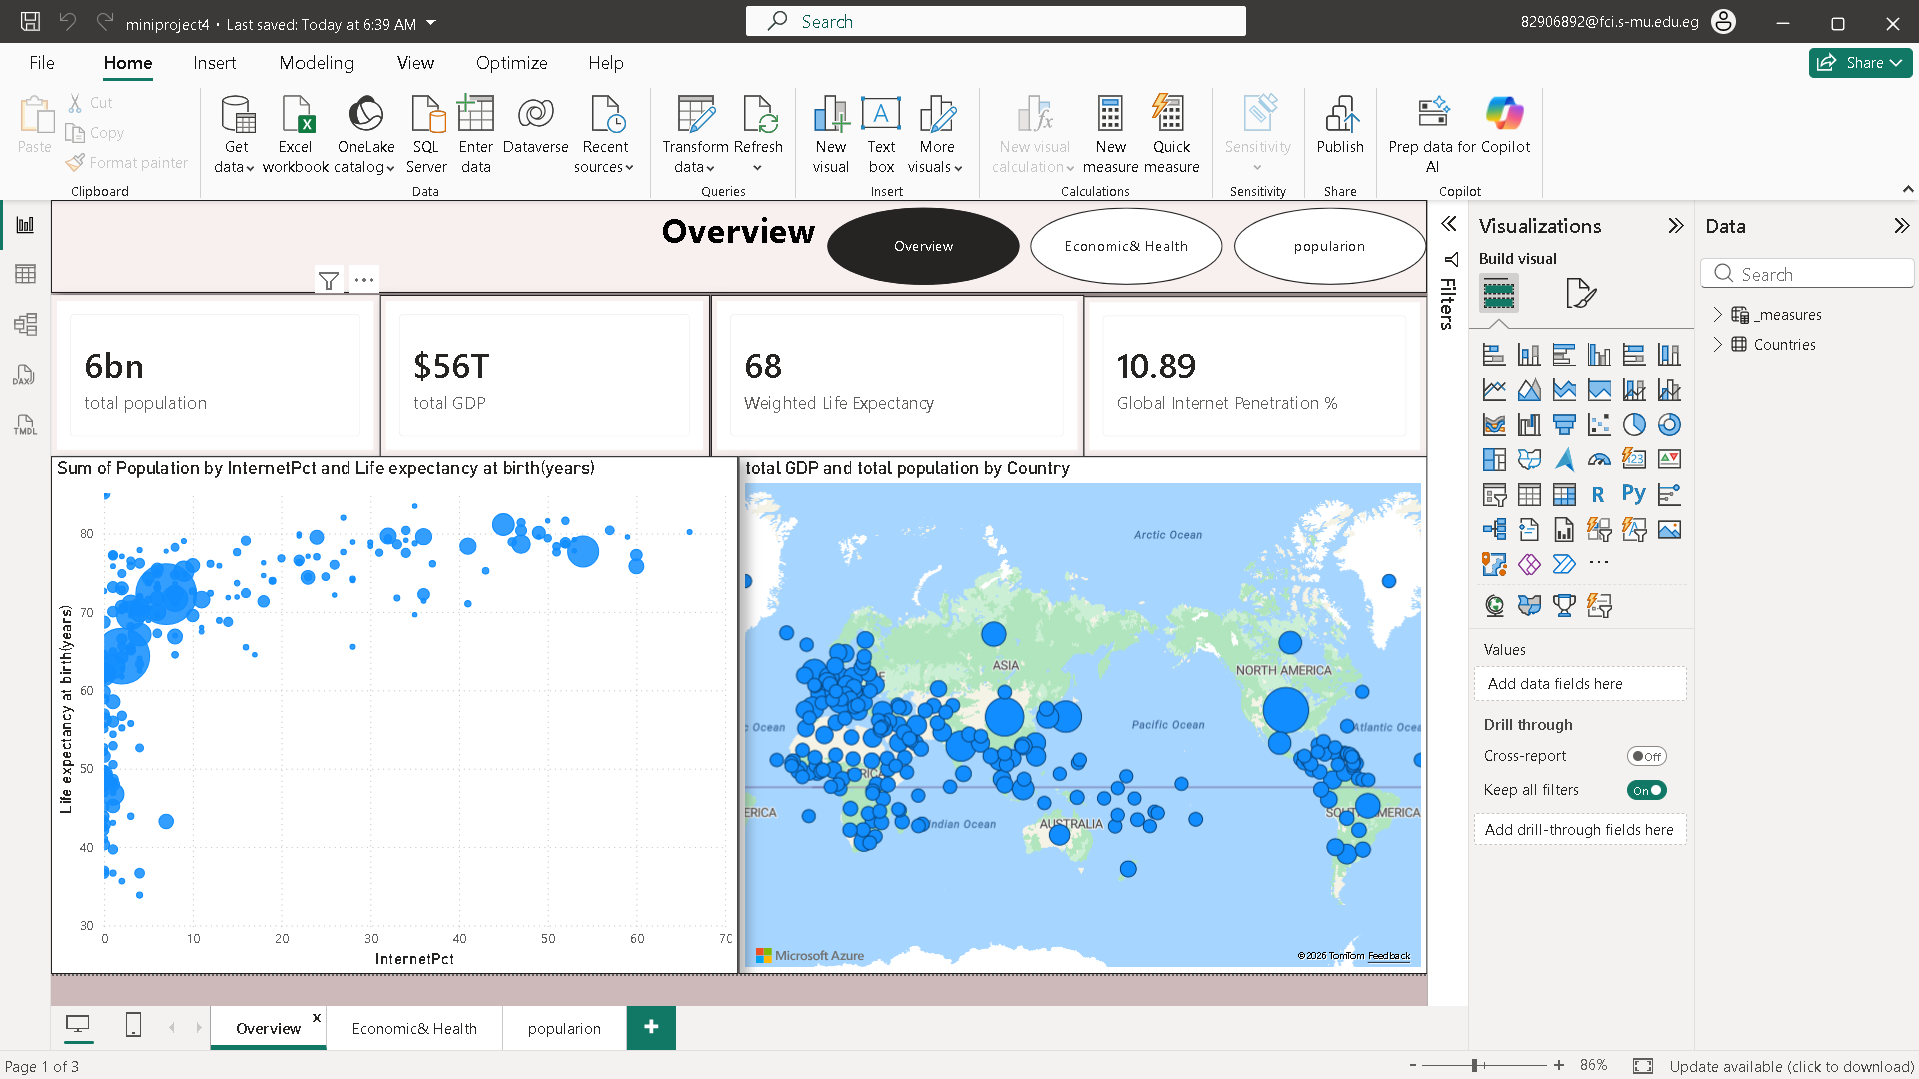

What the dashboard file says about the page in this screenshot:
{"tool":"powerbi","page":{"name":"Overview","canvas":[1280,720],"ordinal":0},"visuals":[{"type":"textbox","box":[0,0,1280.3,86.4],"z":0},{"type":"cardVisual","fields":{"Data":["_measures.total population"]},"box":[0,87.8,306,150.9],"z":1000},{"type":"cardVisual","fields":{"Data":["_measures.total GDP"]},"box":[306,87.8,307.4,150.9],"z":2000},{"type":"cardVisual","fields":{"Data":["_measures.Weighted Life Expectancy"]},"box":[613.4,87.8,347.2,150.9],"z":3000},{"type":"cardVisual","fields":{"Data":["_measures.Global Internet Penetration %"]},"box":[960.6,89.2,319.7,149.6],"z":4000},{"type":"azureMap","fields":{"Category":["Countries.Country"],"Size":["_measures.total GDP"]},"box":[639.5,238.8,640.8,481.6],"z":5000},{"type":"scatterChart","fields":{"X":["Countries.InternetPct"],"Y":["Countries.Life expectancy at birth(years)"],"Size":["Sum(Countries.Population)"]},"box":[0,238.8,639.5,481.6],"z":6000},{"type":"pageNavigator","box":[722.1,7,558.1,72.1],"z":6001}]}

Visuals, with their boxes on the page's 1280x720 design canvas (x1, y1, x2, y2). These are canvas units, not pixel positions in the 1919x1079 screenshot, which may show the page scaled, cropped or inside an application window:
textbox: box(0, 0, 1280, 86)
cardVisual - _measures.total population: box(0, 88, 306, 239)
cardVisual - _measures.total GDP: box(306, 88, 613, 239)
cardVisual - _measures.Weighted Life Expectancy: box(613, 88, 961, 239)
cardVisual - _measures.Global Internet Penetration %: box(961, 89, 1280, 239)
azureMap - Countries.Country x _measures.total GDP: box(640, 239, 1280, 720)
scatterChart - Countries.InternetPct x Countries.Life expectancy at birth(years): box(0, 239, 640, 720)
pageNavigator: box(722, 7, 1280, 79)
